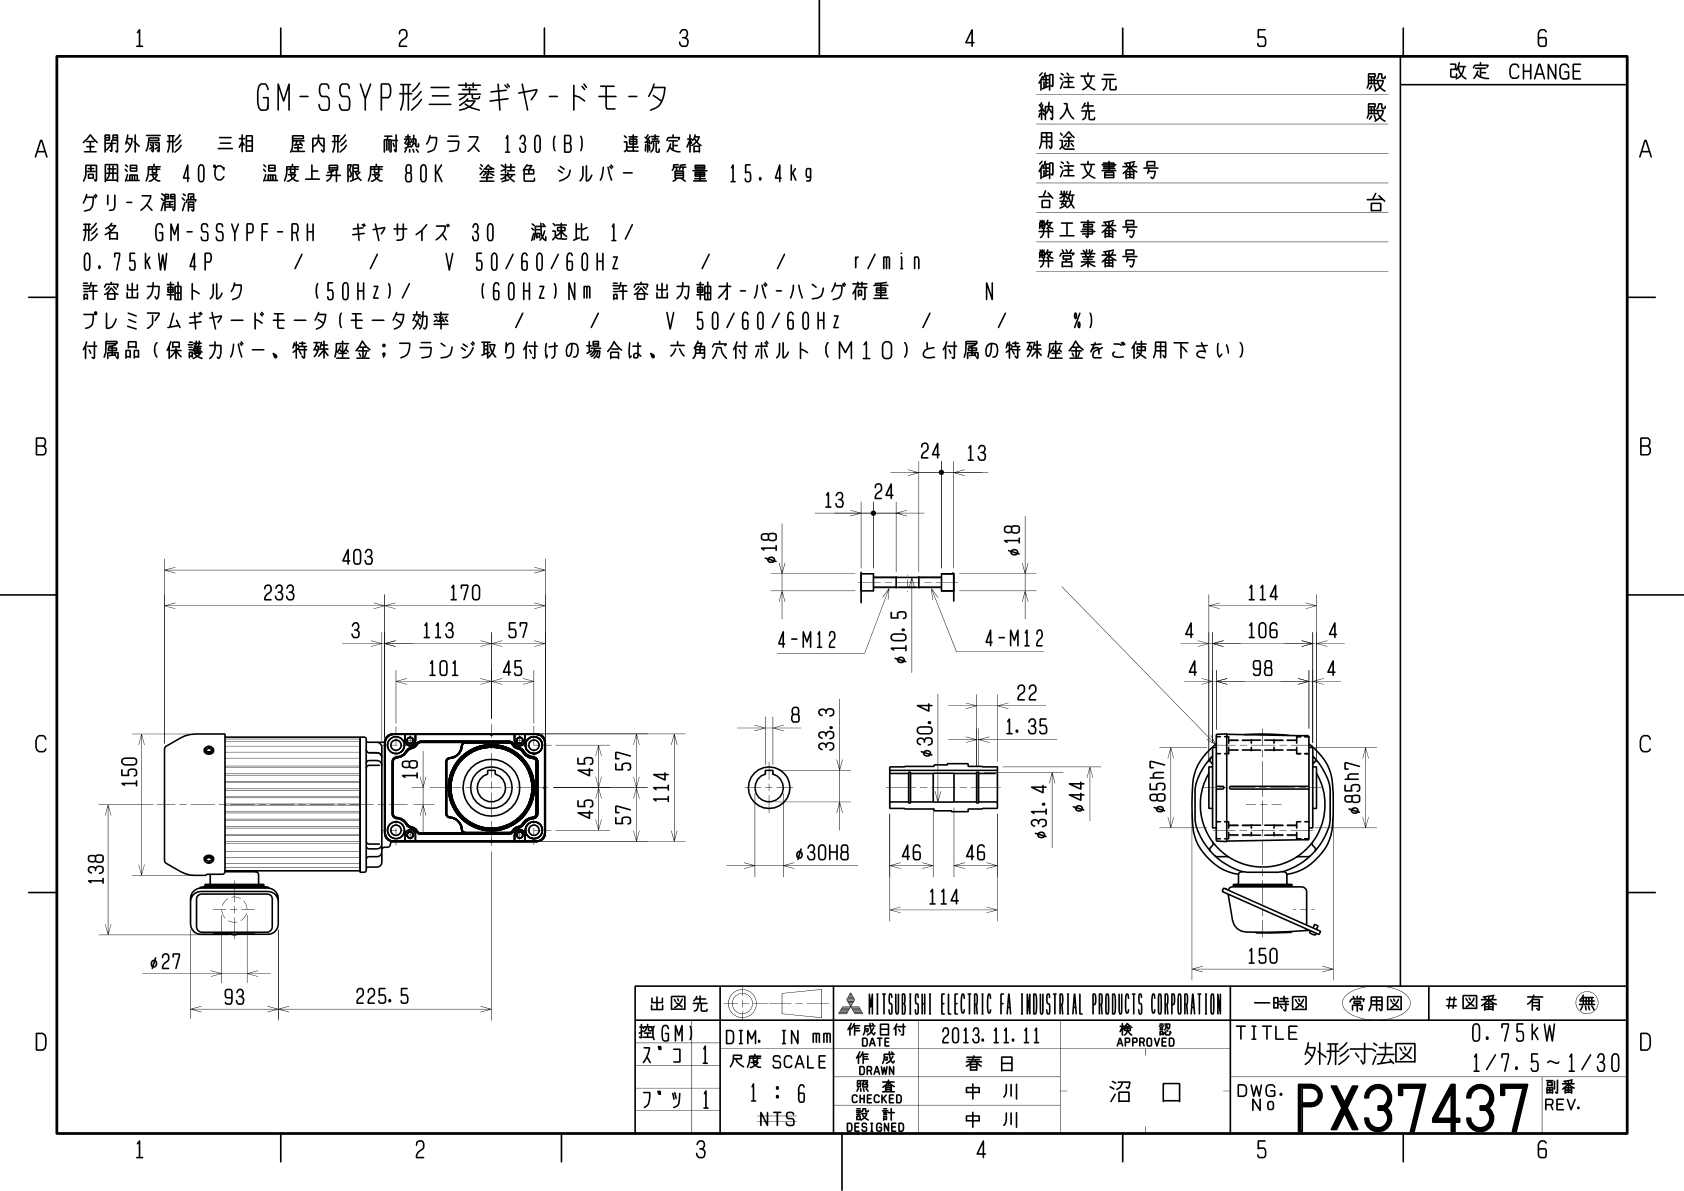GM_SSYP_屋内_三相: (71, 431, 1389, 978)
